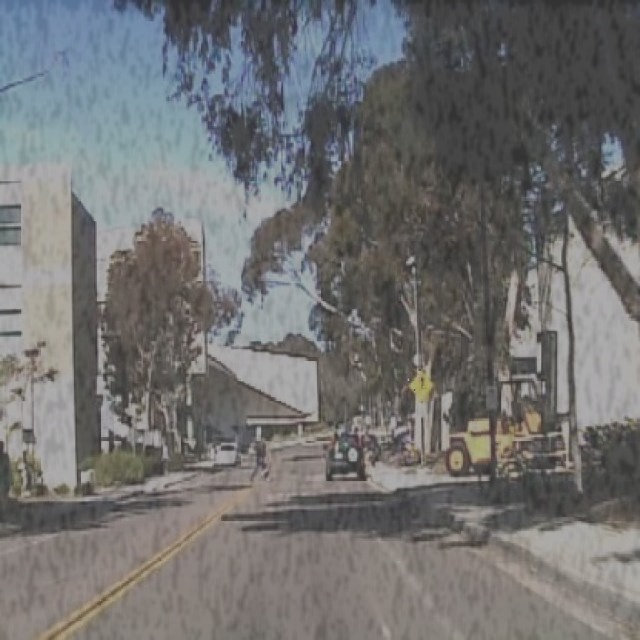pedestrianCrossing: (408, 366, 433, 401)
